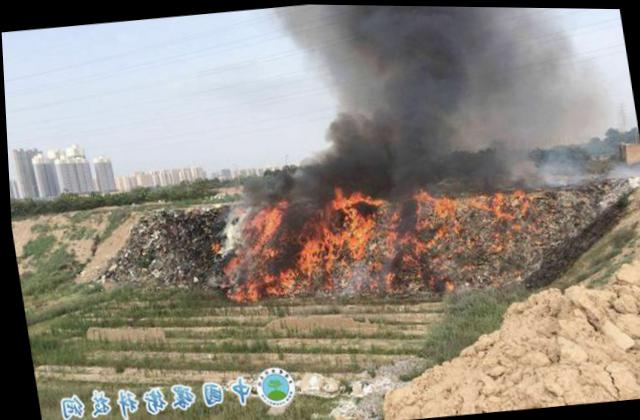fire: (256, 207, 282, 234), (344, 225, 368, 252), (431, 196, 458, 214), (277, 266, 296, 287), (300, 249, 315, 271), (303, 236, 323, 251), (331, 194, 352, 207), (244, 278, 258, 297), (231, 284, 246, 300), (349, 189, 369, 200), (322, 226, 335, 242), (348, 207, 360, 224), (494, 208, 514, 217), (492, 187, 504, 201), (264, 283, 278, 294), (359, 215, 373, 225), (333, 230, 345, 241), (370, 196, 384, 205), (261, 270, 273, 280), (210, 240, 220, 251), (444, 278, 455, 288), (334, 184, 344, 194)
